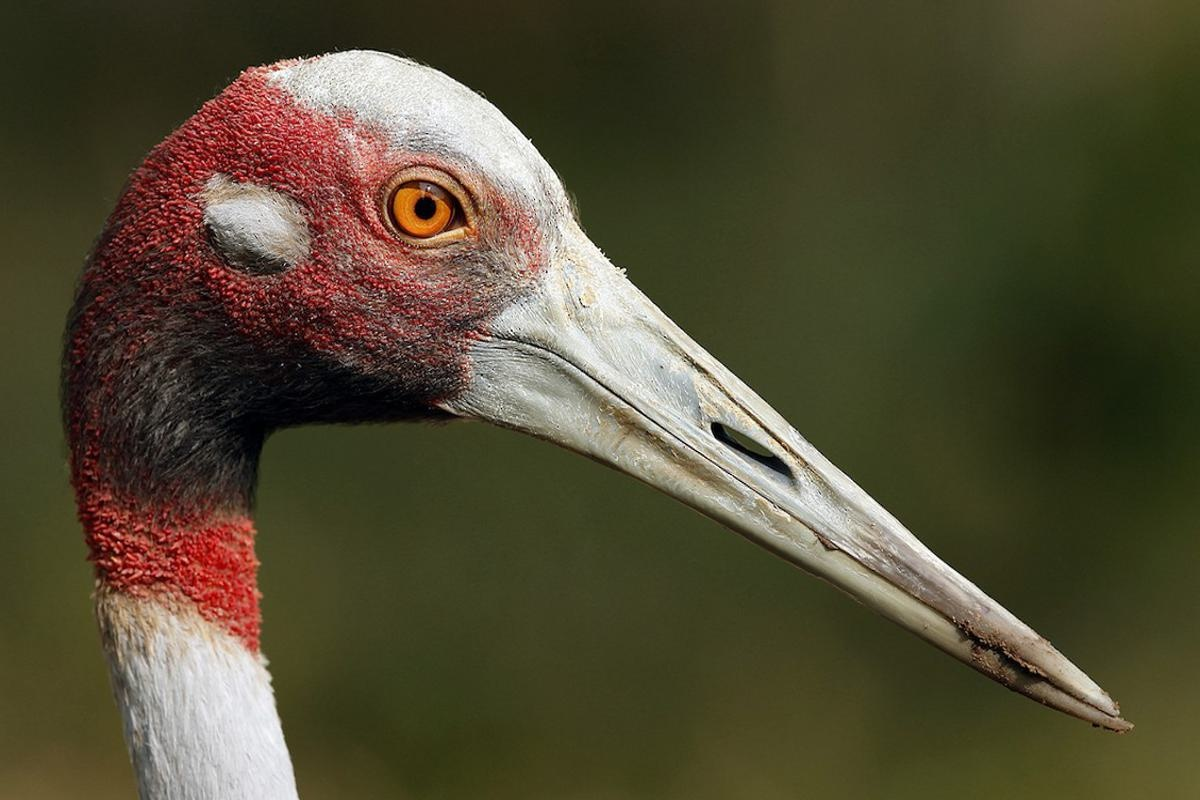crane: (55, 51, 1149, 800)
